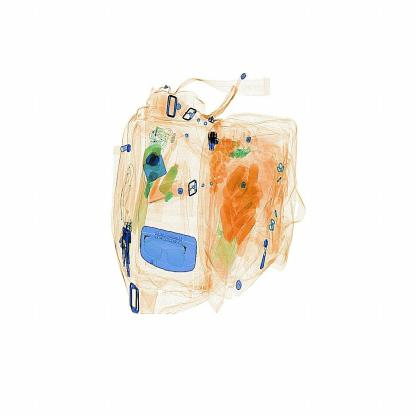scissors: (200, 125, 226, 152)
